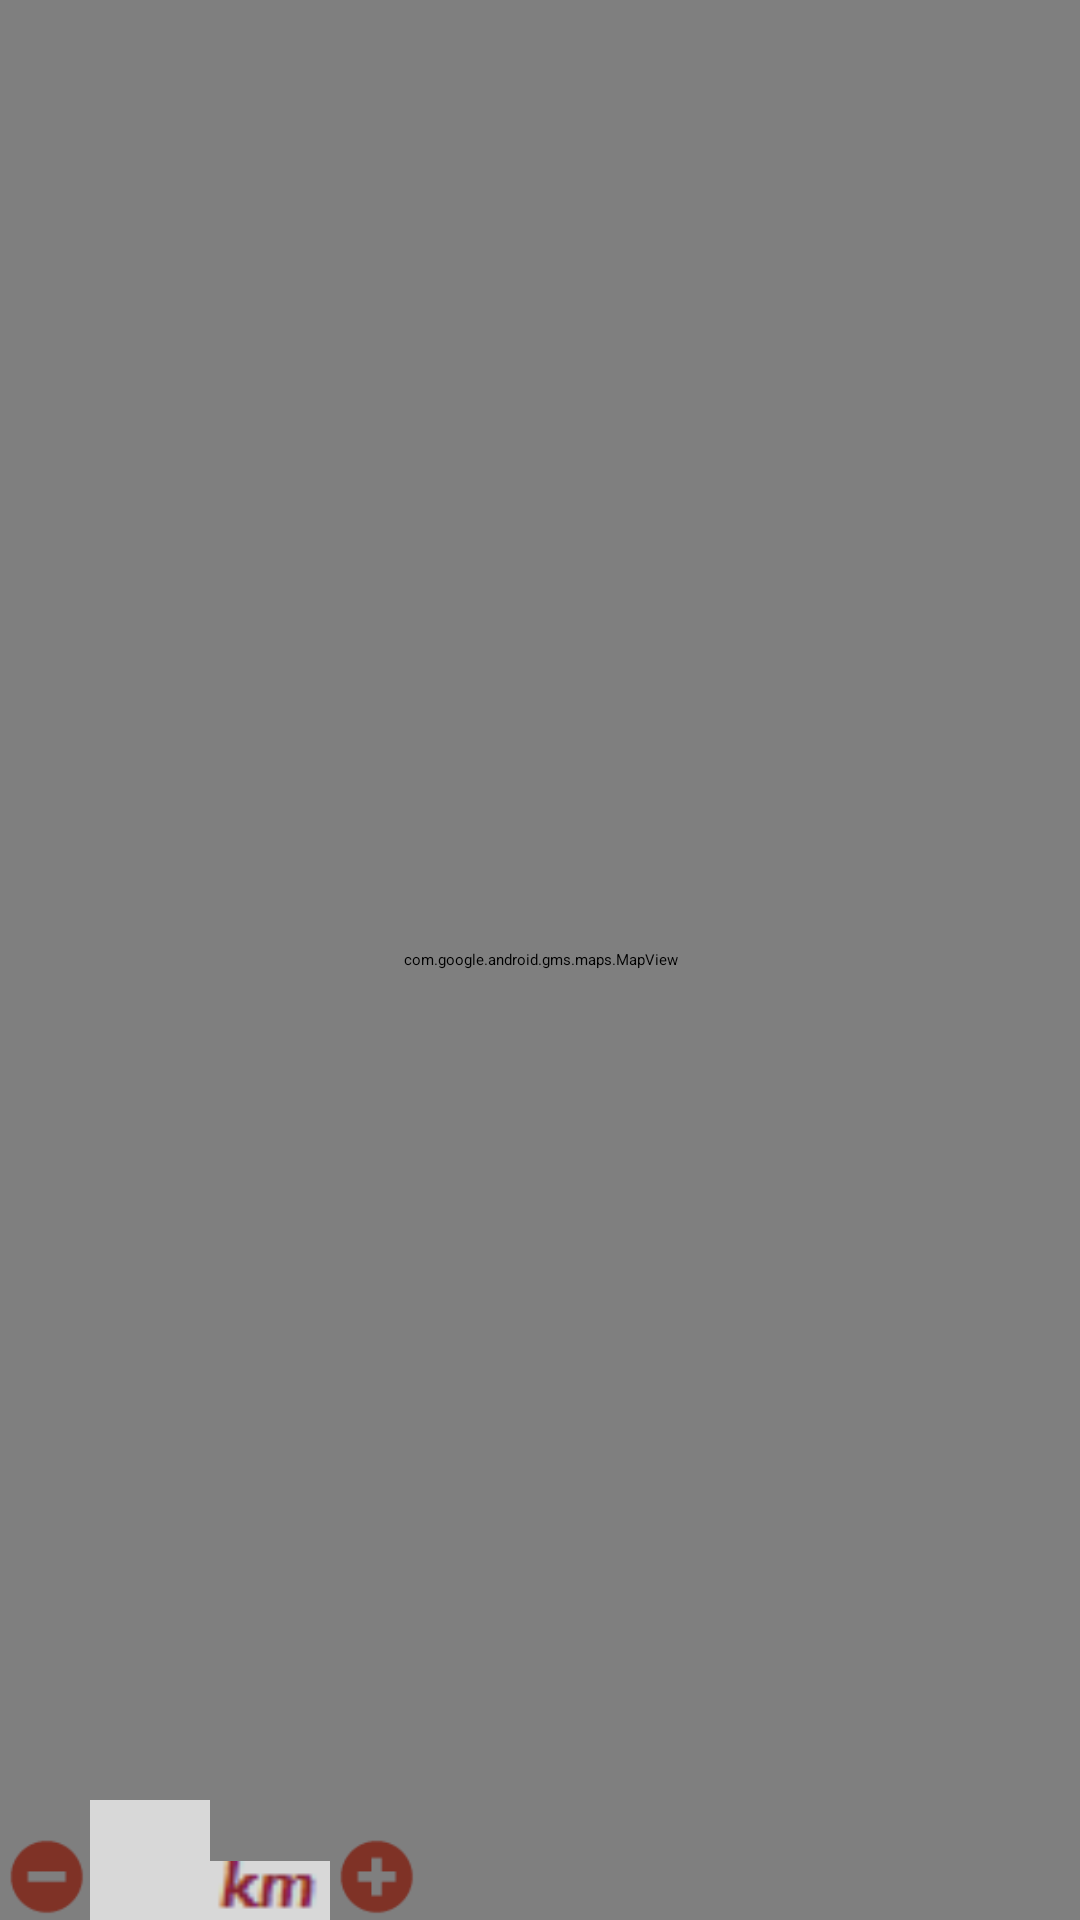

Icon click points for this 1080w x 1920h phone screenshot, format point (x, y):
minus: point (47, 1877)
plus: point (377, 1877)
